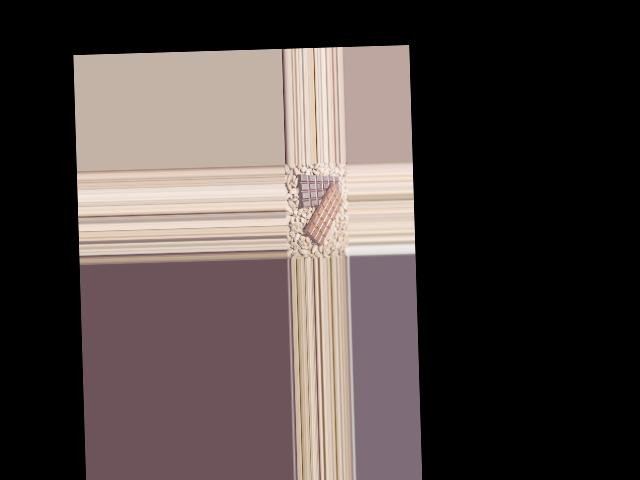chocolate: (295, 169, 342, 207)
